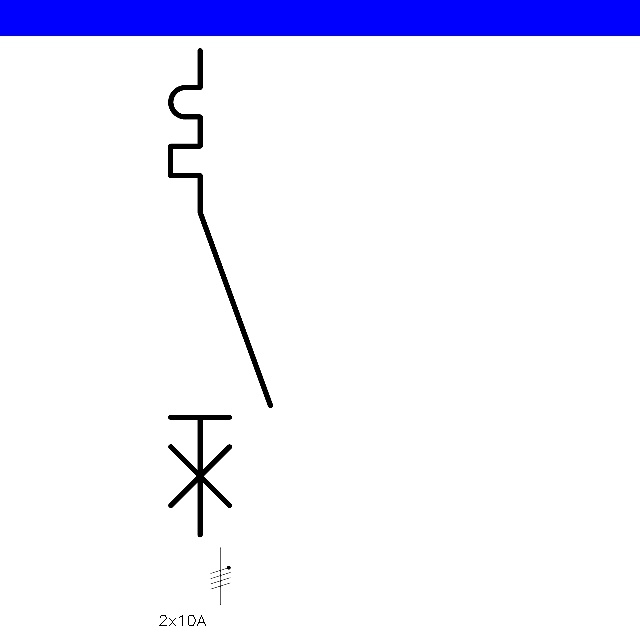interruptor_termomagnetico: (158, 38, 282, 547)
